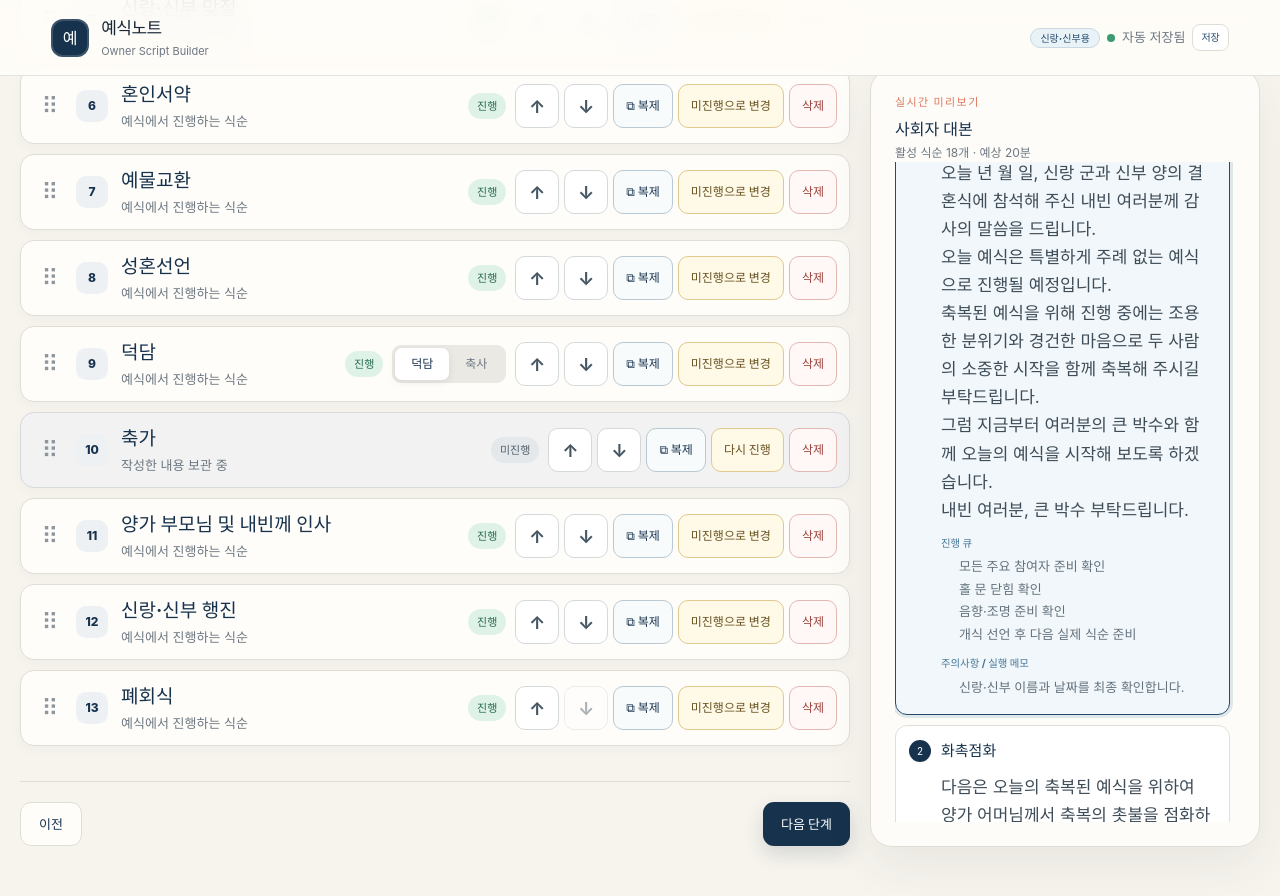
Test: Owner 최종 확인 W4.1 개선 › 기존 공연 카드가 있으면 활성화해도 중복 생성하지 않는다
(page scrolled)
Click the button "다시 진행" at x=747, y=450, box top-left (711, 428), bottom-right (784, 472)
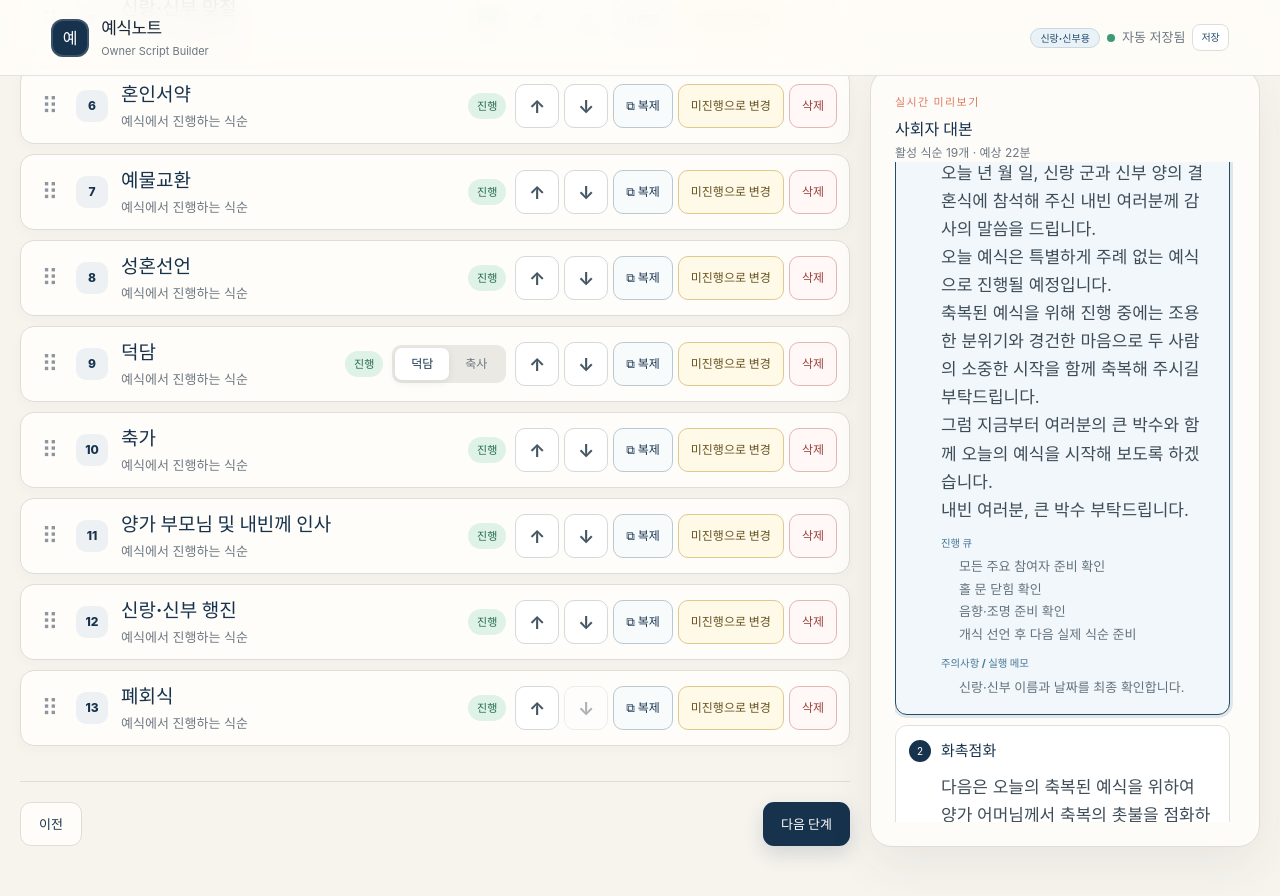
Click the button with class "item-main" showing "10 축가 예식에서 진행하는 식순" at x=92, y=450, box top-left (76, 426), bottom-right (459, 475)
(page scrolled)
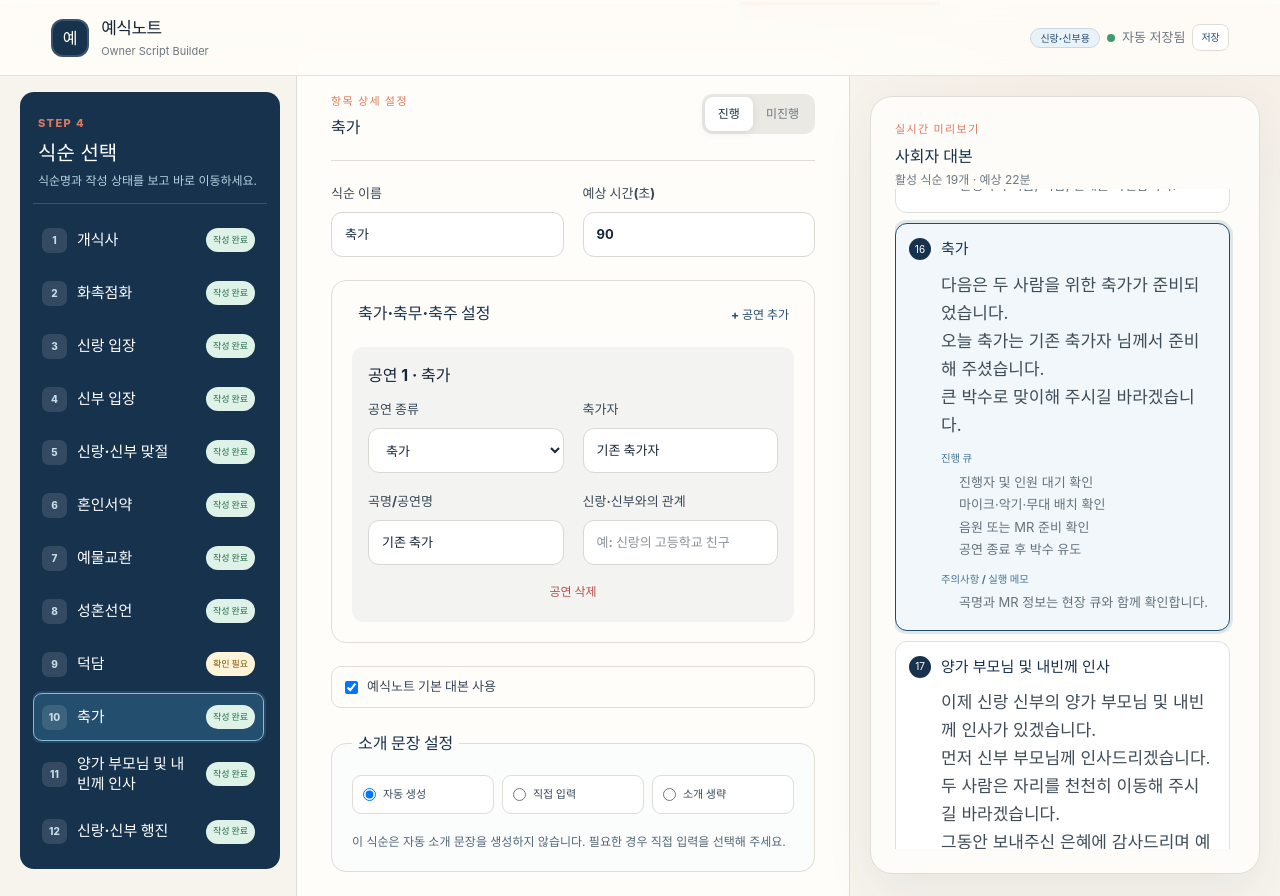
Expected: the field showing "기존 축가자" is shown, top-left (582, 428), bottom-right (778, 473)
